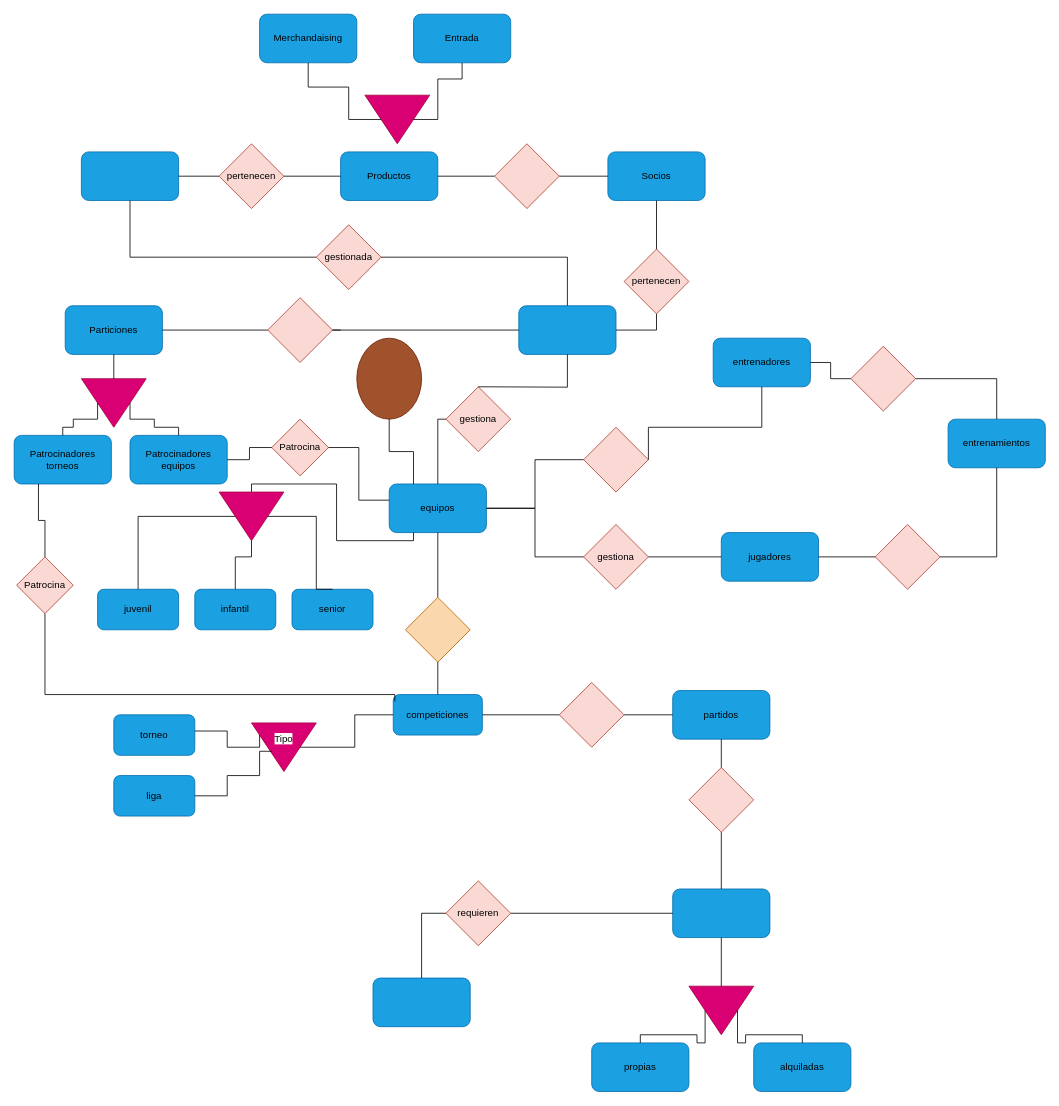
This 1059x1106 diagram has some shape labels left out. Here are the shapes that lost their labels. From the top down, the centre of each, then its label:
At point (130, 175): "Tienda".
At point (526, 176): "compran".
At point (300, 329): "financian".
At point (567, 329): "Club".
At point (389, 378): "PK_equipos".
At point (883, 378): "planifiacan".
At point (615, 459): "gestionado".
At point (251, 516): "categoria".
At point (907, 556): "asisten".
At point (437, 629): "complite".
At point (591, 714): "registra".
At point (721, 799): "se juegan".
At point (721, 913): "instalaciones".
At point (421, 1002): "reservas".
